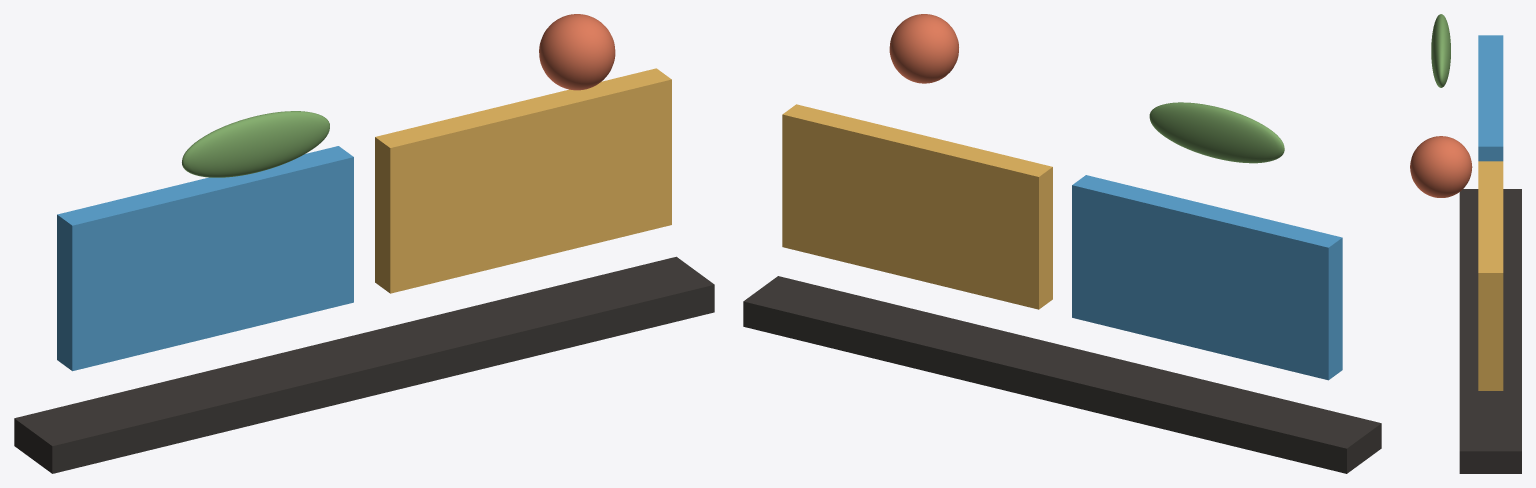
File: biology-evolution-adaptation.glb
The picture shows the model from 3 angles, left to right: view 1: azimuth 30°, elevation 25°; view 2: azimuth 150°, elevation 25°; view 3: azimuth 270°, elevation 25°; orthographic projection. The views are drawn at different scales.
Visible parts, largest first — view 1: dry-habitat-zone, water-habitat-zone, generation-ground, webbed-foot-trait, trait-benefit-marker; view 2: dry-habitat-zone, water-habitat-zone, generation-ground, webbed-foot-trait, trait-benefit-marker; view 3: generation-ground, dry-habitat-zone, water-habitat-zone, trait-benefit-marker, webbed-foot-trait.
Boxes of the visible parts, bbox=[...] form: dry-habitat-zone: bbox=[375, 68, 671, 293]; water-habitat-zone: bbox=[57, 146, 353, 371]; generation-ground: bbox=[14, 256, 714, 473]; webbed-foot-trait: bbox=[182, 111, 329, 177]; trait-benefit-marker: bbox=[539, 14, 615, 90]; dry-habitat-zone: bbox=[782, 104, 1052, 309]; water-habitat-zone: bbox=[1072, 175, 1342, 380]; generation-ground: bbox=[743, 276, 1381, 473]; webbed-foot-trait: bbox=[1149, 102, 1284, 163]; trait-benefit-marker: bbox=[889, 14, 958, 83]; generation-ground: bbox=[1459, 189, 1521, 473]; dry-habitat-zone: bbox=[1478, 161, 1503, 390]; water-habitat-zone: bbox=[1478, 35, 1503, 161]; trait-benefit-marker: bbox=[1410, 136, 1472, 197]; webbed-foot-trait: bbox=[1431, 14, 1450, 87].
Size of what is drawn, in the model's own units: 2 by 0.98 by 0.36.
